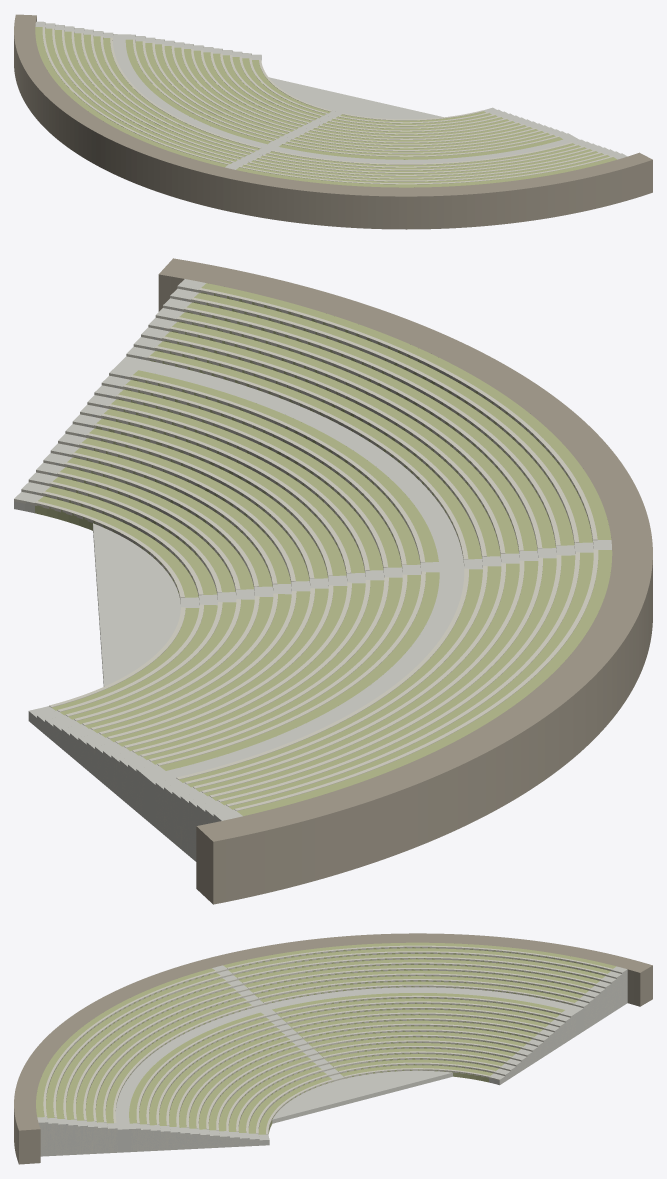
3 renders of one model, top to bottom at view 1: azimuth 30°, elevation 25°; view 2: azimuth 150°, elevation 25°; view 3: azimuth 270°, elevation 25°, orthographic. The views are drawn at different scales.
Visible parts, largest first — view 1: theater-seating__grassTerrace, theater-seating__outerBoardwalk, theater-seating__stoneSeatEdge, theater-seating__middleCrossAisle, theater-seating__radialAisleTread, theater-seating__stageForecourt; view 2: theater-seating__grassTerrace, theater-seating__stoneSeatEdge, theater-seating__outerBoardwalk, theater-seating__radialAisleTread, theater-seating__middleCrossAisle, theater-seating__terraceRisers, theater-seating__stageForecourt, theater-seating__outerSideRetainingCheeks; view 3: theater-seating__grassTerrace, theater-seating__stoneSeatEdge, theater-seating__radialAisleTread, theater-seating__outerBoardwalk, theater-seating__terraceRisers, theater-seating__middleCrossAisle, theater-seating__stageForecourt, theater-seating__outerSideRetainingCheeks.
Part boxes in pixels (x1,y1,x2,y2): theater-seating__grassTerrace: [35, 27, 616, 187]; theater-seating__outerBoardwalk: [14, 14, 652, 229]; theater-seating__stoneSeatEdge: [42, 26, 612, 184]; theater-seating__middleCrossAisle: [113, 34, 579, 163]; theater-seating__radialAisleTread: [35, 21, 627, 169]; theater-seating__stageForecourt: [269, 77, 443, 119]; theater-seating__grassTerrace: [35, 283, 612, 816]; theater-seating__stoneSeatEdge: [35, 288, 598, 810]; theater-seating__outerBoardwalk: [158, 258, 652, 904]; theater-seating__radialAisleTread: [14, 279, 611, 861]; theater-seating__middleCrossAisle: [117, 356, 464, 827]; theater-seating__terraceRisers: [14, 286, 593, 603]; theater-seating__stageForecourt: [93, 523, 180, 686]; theater-seating__outerSideRetainingCheeks: [28, 712, 219, 861]; theater-seating__grassTerrace: [36, 942, 616, 1134]; theater-seating__stoneSeatEdge: [43, 945, 612, 1134]; theater-seating__radialAisleTread: [37, 965, 627, 1156]; theater-seating__outerBoardwalk: [14, 933, 652, 1164]; theater-seating__terraceRisers: [47, 947, 621, 1129]; theater-seating__middleCrossAisle: [115, 987, 583, 1152]; theater-seating__stageForecourt: [272, 1070, 452, 1123]; theater-seating__outerSideRetainingCheeks: [39, 971, 626, 1156].
Size of the model in its own units: 59.4 by 4.8 by 81.34.
